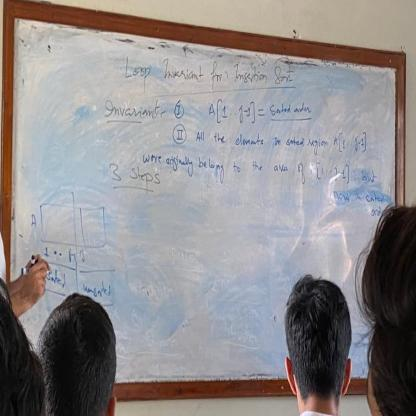Handwritten text: (140, 147, 300, 195), (115, 51, 293, 93), (192, 125, 330, 154), (98, 93, 160, 128)
Whiteboard: (8, 14, 406, 380)
